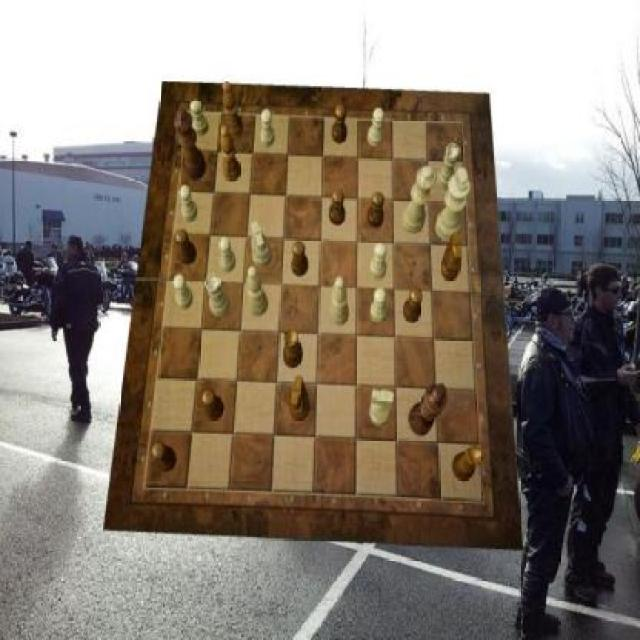bishop: (223, 82, 244, 140), (220, 126, 241, 182)
black-bishop: (408, 383, 447, 437)
black-king: (440, 231, 462, 280), (289, 375, 310, 421)
black-knight: (203, 389, 226, 422), (176, 230, 197, 266), (152, 442, 177, 472), (403, 288, 423, 324), (292, 242, 310, 278), (332, 104, 348, 144), (329, 190, 346, 226), (368, 192, 385, 228)
black-pawn: (174, 109, 206, 182)
black-queen: (452, 446, 483, 482), (283, 328, 303, 368)
black-rook: (246, 266, 269, 317), (331, 277, 351, 326)
white-bishop: (436, 168, 472, 242)
white-king: (250, 221, 272, 267), (369, 389, 394, 427)
white-knight: (178, 185, 198, 222), (174, 274, 194, 310), (369, 242, 387, 279), (370, 288, 388, 324), (190, 100, 208, 136), (368, 108, 384, 148), (258, 109, 274, 148), (220, 237, 237, 273)
white-pawn: (401, 166, 437, 234)
white-queen: (436, 143, 460, 189), (206, 274, 231, 318)
